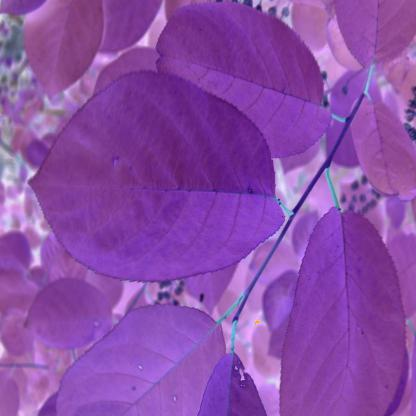Cherry leaf: (20, 74, 286, 297), (151, 3, 341, 164), (284, 198, 413, 416), (49, 297, 231, 416)
